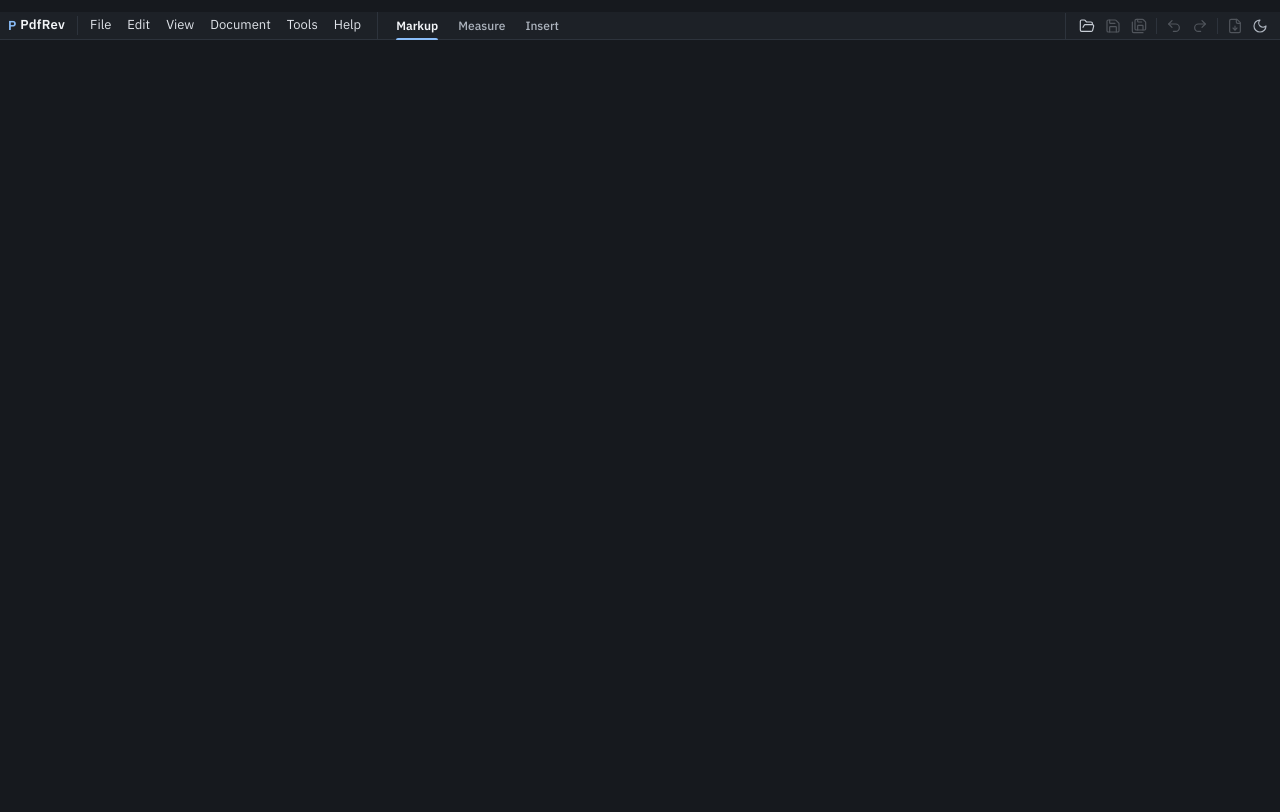
Test: Diálogo Sketch to Scale (ADR-0128) › Edit ▸ Sketch to Scale solo está disponible con un documento abierto
Click the menu item with test id "menu-editar" at (139, 26), box top-left (119, 14), bottom-right (158, 37)
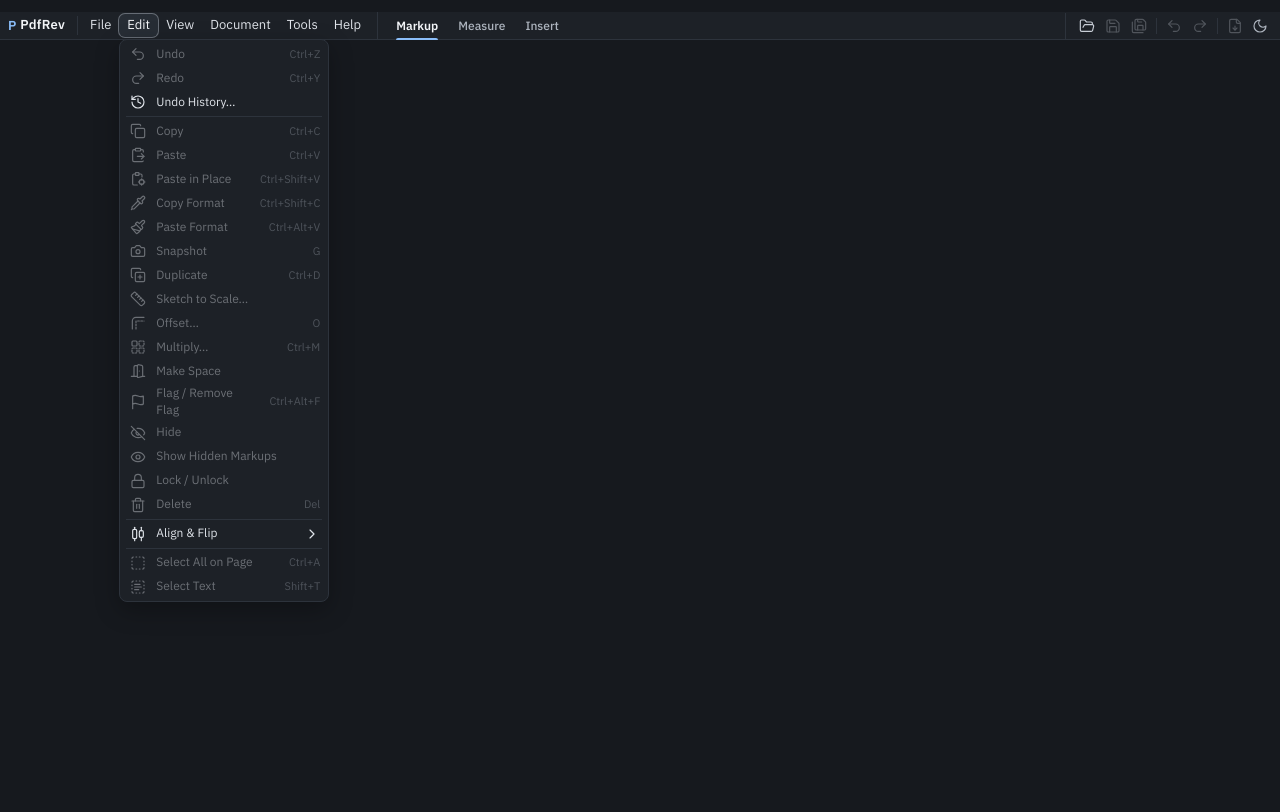
Check: the menu item with test id "menu-sketch-to-scale" is disabled, box top-left (122, 287), bottom-right (326, 311)
